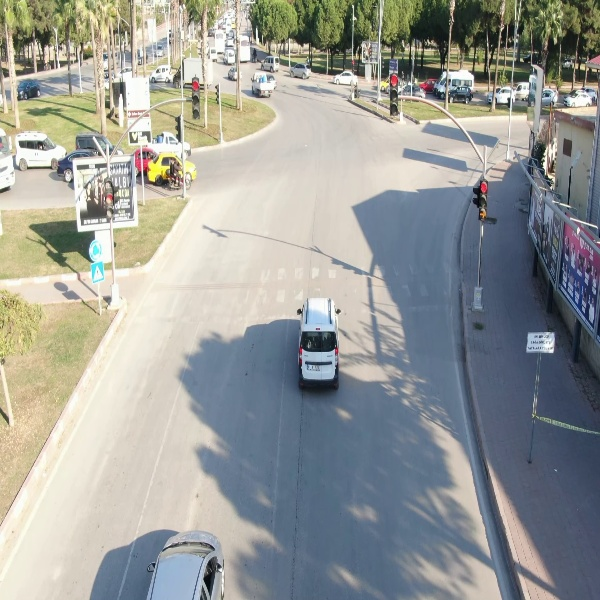car: (297, 294, 340, 392), (14, 129, 68, 174), (15, 74, 40, 104), (562, 88, 596, 108), (445, 85, 475, 106), (147, 64, 174, 86), (257, 53, 281, 75), (288, 61, 313, 81), (334, 69, 359, 87)
